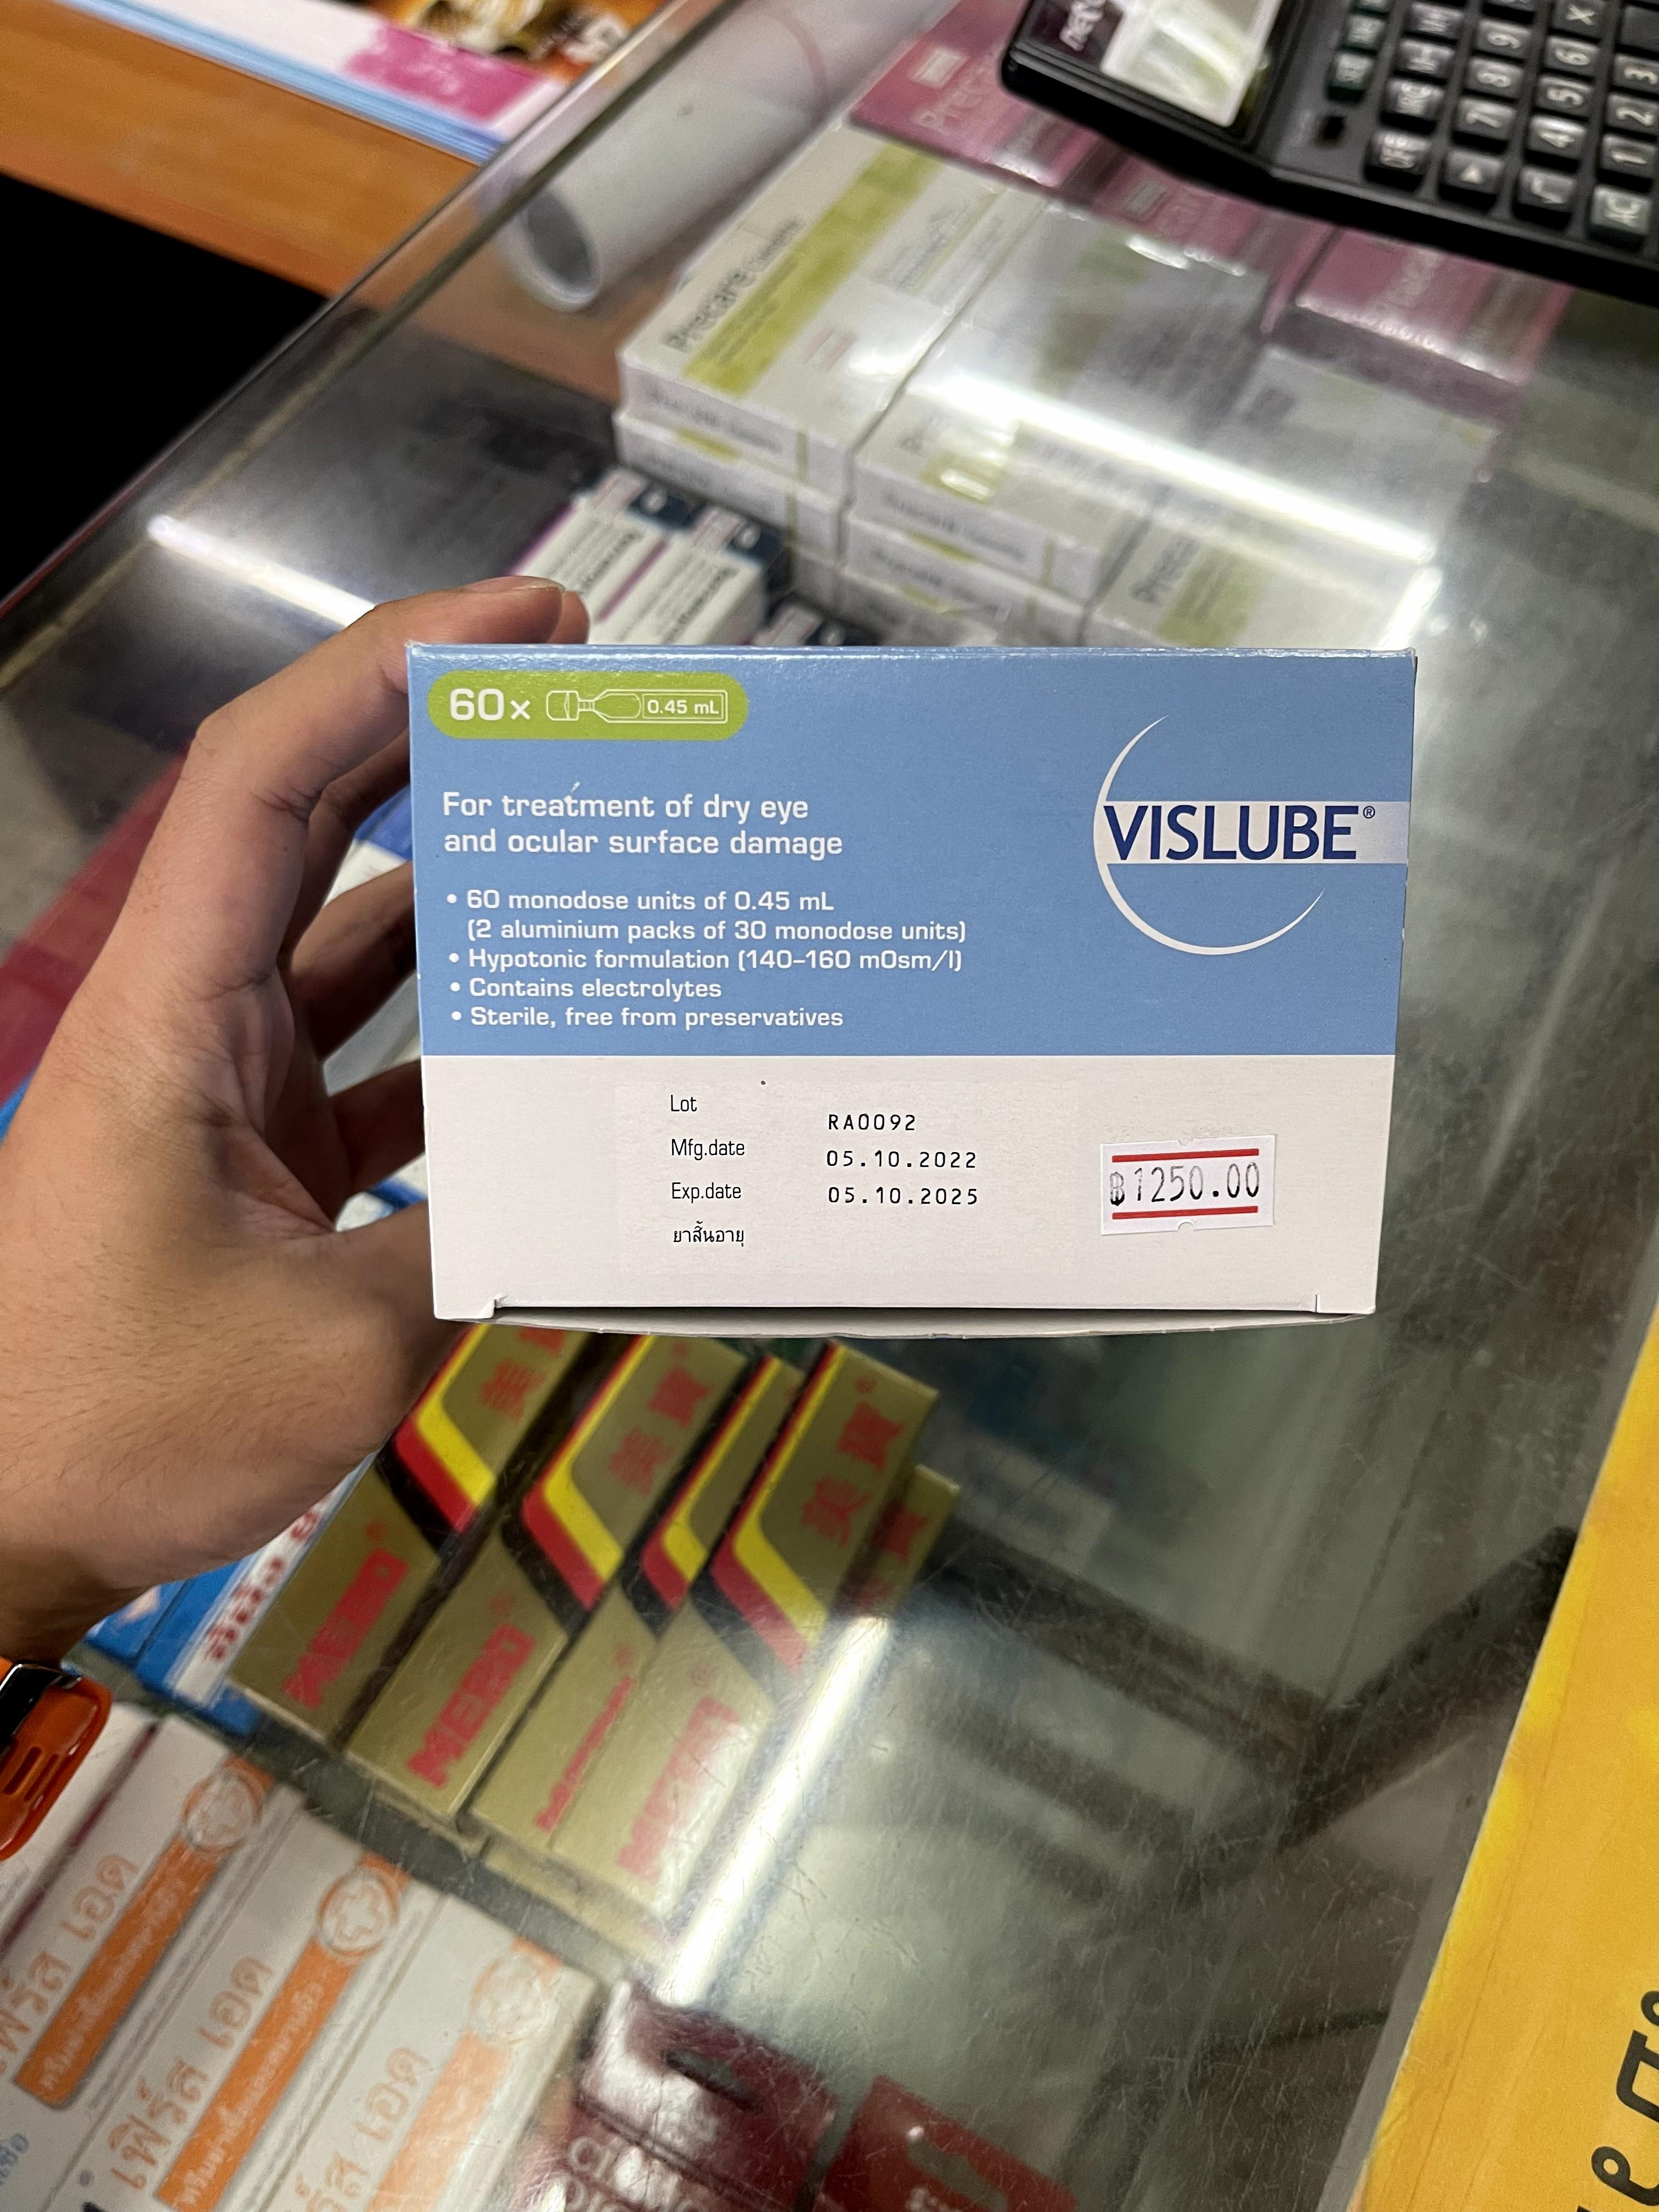Vislube60: (410, 643, 1415, 1331)
